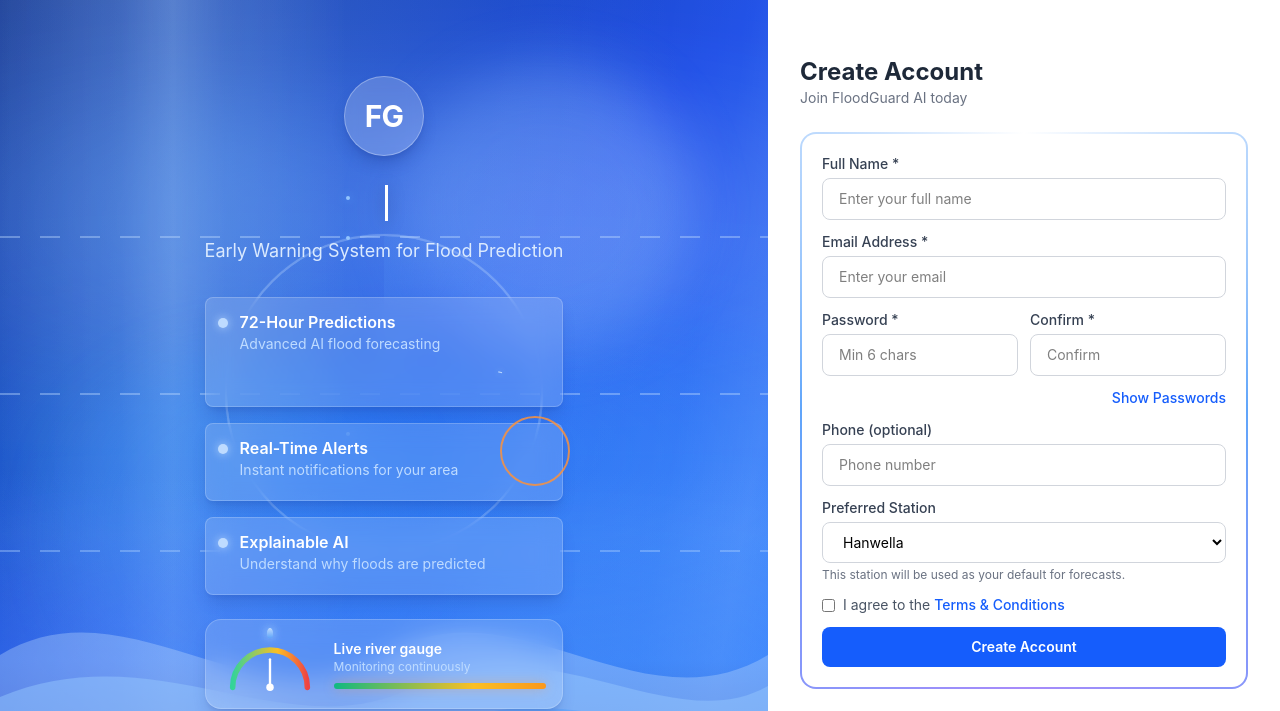
it: RegisterPage › should toggle password visibility
This screenshot has width=1280, height=711.
Click the button "Show Passwords": (1169, 398) [1112,388,1226,408]
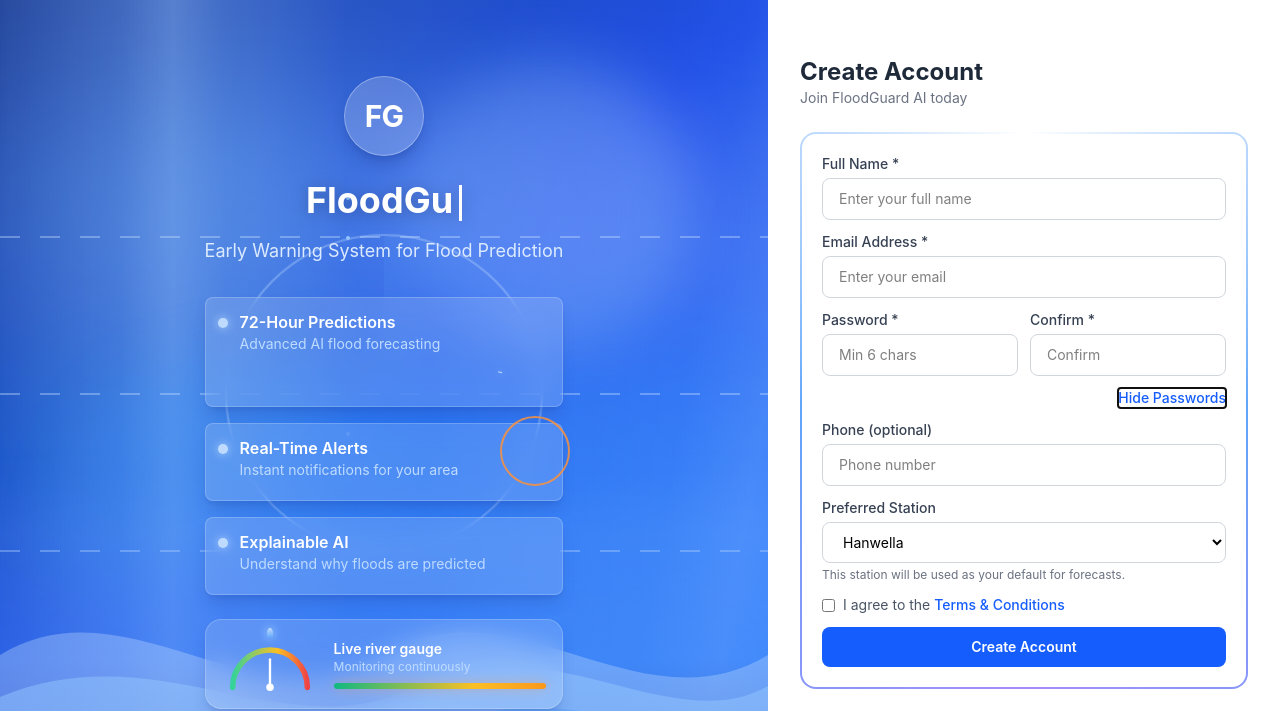
Result: the button "Hide Passwords" is shown at [1118,388,1226,408]
